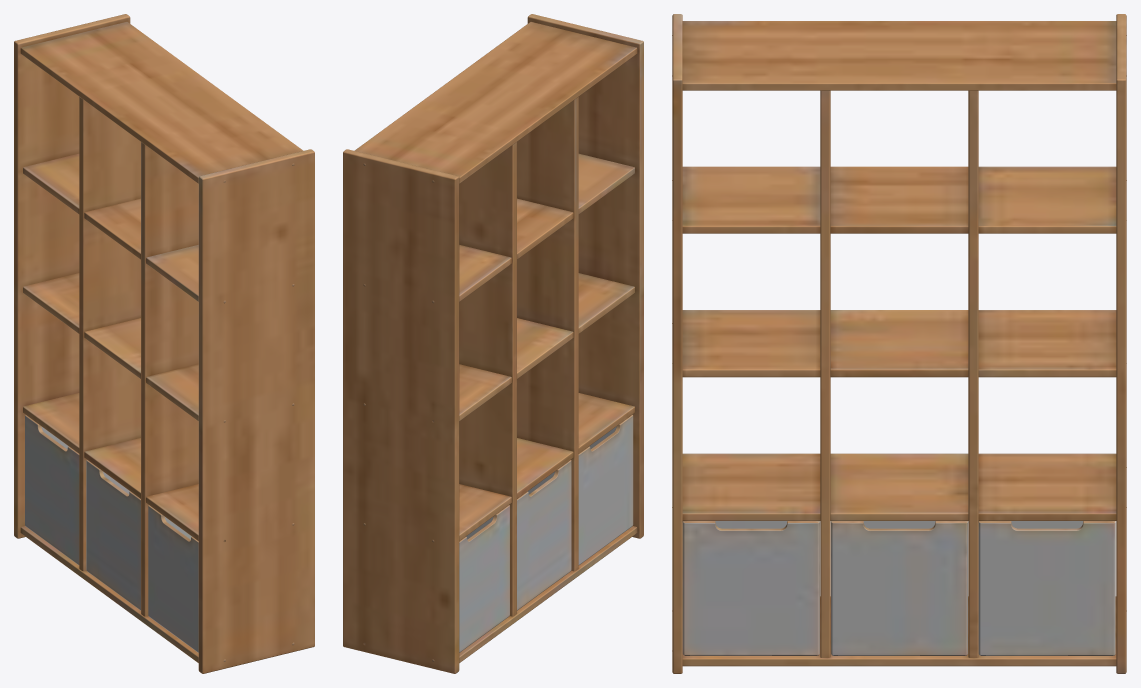
3 renders of one model, left to right at view 1: azimuth 30°, elevation 25°; view 2: azimuth 150°, elevation 25°; view 3: azimuth 270°, elevation 25°, orthographic. The views are drawn at different scales.
Parts seen in each view (by area): view 1: wooden_display_shelves_01, wooden_display_shelves_01_drawer_01, wooden_display_shelves_01_drawer_02, wooden_display_shelves_01_drawer_03; view 2: wooden_display_shelves_01, wooden_display_shelves_01_drawer_03, wooden_display_shelves_01_drawer_02, wooden_display_shelves_01_drawer_01; view 3: wooden_display_shelves_01, wooden_display_shelves_01_drawer_03, wooden_display_shelves_01_drawer_01, wooden_display_shelves_01_drawer_02.
Boxes of the visible parts, x1,y1,x2,y2 form: wooden_display_shelves_01: (14, 14, 314, 673); wooden_display_shelves_01_drawer_01: (25, 415, 79, 565); wooden_display_shelves_01_drawer_02: (86, 460, 140, 610); wooden_display_shelves_01_drawer_03: (148, 505, 198, 652); wooden_display_shelves_01: (343, 14, 643, 673); wooden_display_shelves_01_drawer_03: (578, 415, 633, 565); wooden_display_shelves_01_drawer_02: (517, 460, 571, 610); wooden_display_shelves_01_drawer_01: (459, 505, 509, 652); wooden_display_shelves_01: (672, 14, 1126, 673); wooden_display_shelves_01_drawer_03: (682, 521, 819, 655); wooden_display_shelves_01_drawer_01: (978, 521, 1115, 655); wooden_display_shelves_01_drawer_02: (831, 521, 967, 655).
Bounding box in the file's own units: 0.3714 × 1.56 × 1.08.
1 material, 1 textured.
